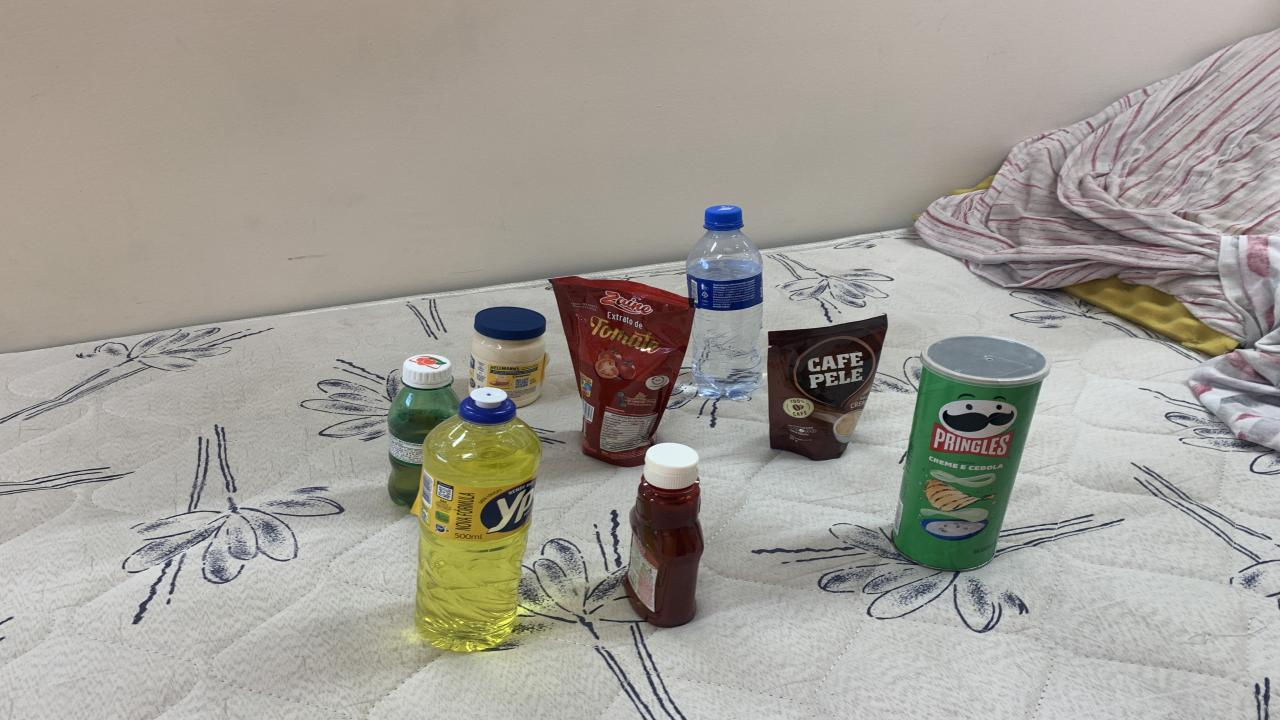Coffee-Pantry_Items: (768, 315, 888, 459)
Detergent-Cleanup_Items: (415, 388, 542, 651)
Guarana-Drinks: (388, 354, 460, 506)
Ketchup-Pantry_Items: (625, 442, 705, 626)
Mayonnaise-Pantry_Items: (470, 308, 548, 407)
Pringles-Snacks: (892, 336, 1048, 570)
Tomato_Sauce-Pantry_Items: (550, 276, 695, 467)
Water_Bottle-Drinks: (685, 204, 762, 401)
